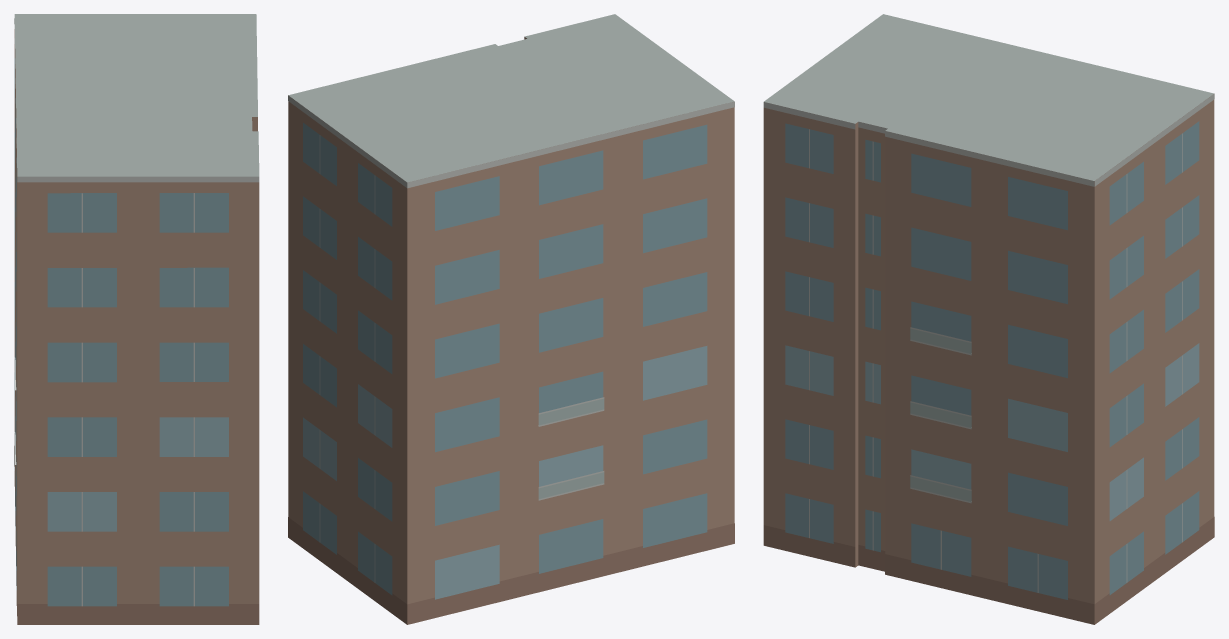
Rendered from survey-upis-32745682.glb.
The picture shows the model from 3 angles, left to right: view 1: azimuth 30°, elevation 25°; view 2: azimuth 150°, elevation 25°; view 3: azimuth 270°, elevation 25°; orthographic projection.
Visible parts, largest first — view 1: survey-upis-32745682.tmp; view 2: survey-upis-32745682.tmp; view 3: survey-upis-32745682.tmp.
Boxes of the visible parts, x1=… form: survey-upis-32745682.tmp: x1=14, y1=14, x2=259, y2=624; survey-upis-32745682.tmp: x1=288, y1=14, x2=734, y2=624; survey-upis-32745682.tmp: x1=763, y1=14, x2=1214, y2=624.
Bounding box in the file's own units: 15.11 × 18.7 × 17.23.
